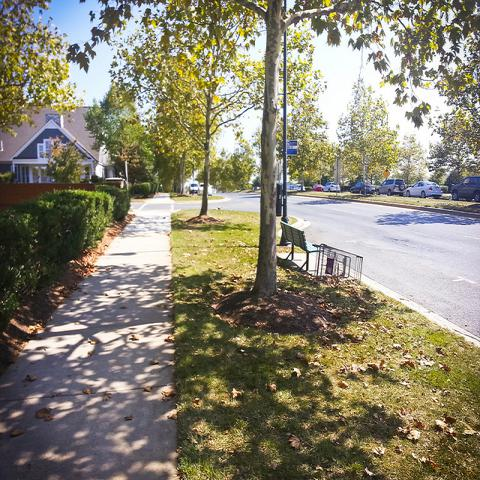car: (451, 176, 479, 204), (405, 179, 443, 198), (376, 178, 406, 198), (349, 182, 375, 194), (197, 182, 212, 196), (323, 182, 341, 191), (287, 181, 301, 191), (189, 181, 199, 194), (310, 184, 323, 192)
